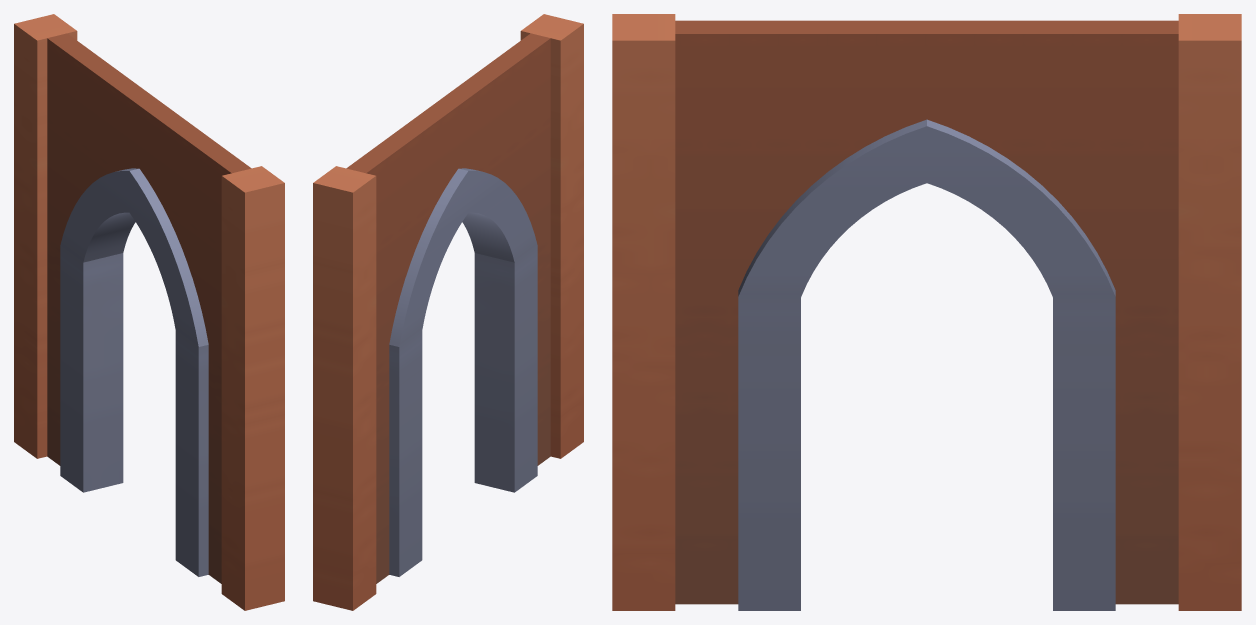
The model's file is wallWoodDoorwayRound.fbx.
3 renders of one model, left to right at view 1: azimuth 30°, elevation 25°; view 2: azimuth 150°, elevation 25°; view 3: azimuth 270°, elevation 25°, orthographic. The views are drawn at different scales.
Visible parts, largest first — view 1: wallWoodDoorwayRound; view 2: wallWoodDoorwayRound; view 3: wallWoodDoorwayRound.
Part boxes in pixels (left/top/right/bottom): wallWoodDoorwayRound: left=14, top=14, right=284, bottom=610; wallWoodDoorwayRound: left=313, top=14, right=583, bottom=610; wallWoodDoorwayRound: left=612, top=14, right=1241, bottom=610.
Size of the model in its own units: 0.1 by 1 by 1.
